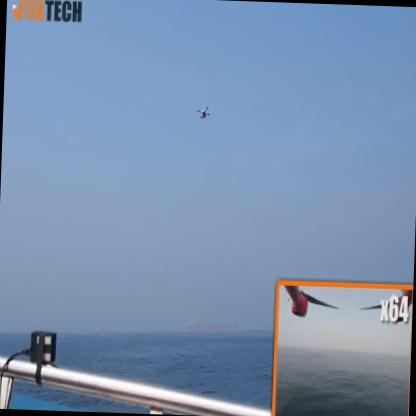drone: (196, 107, 212, 122)
